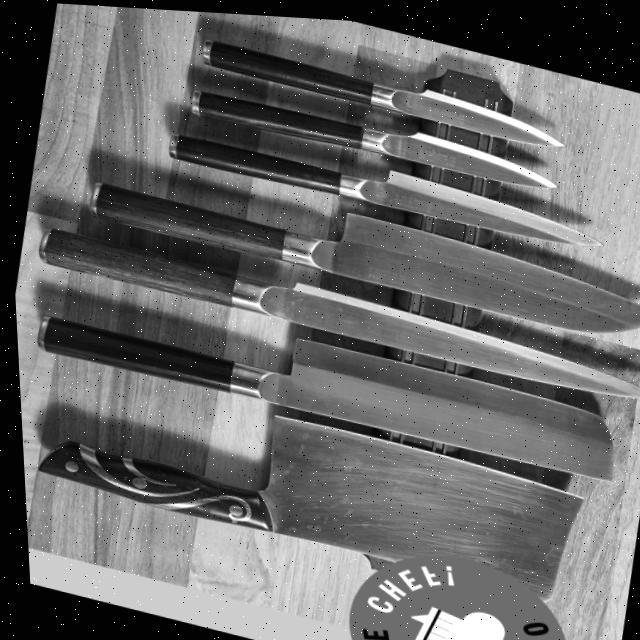knife: (17, 347, 594, 640), (25, 265, 618, 497), (72, 143, 640, 354), (30, 216, 640, 412), (155, 122, 598, 258), (176, 68, 565, 198), (190, 29, 570, 155)
